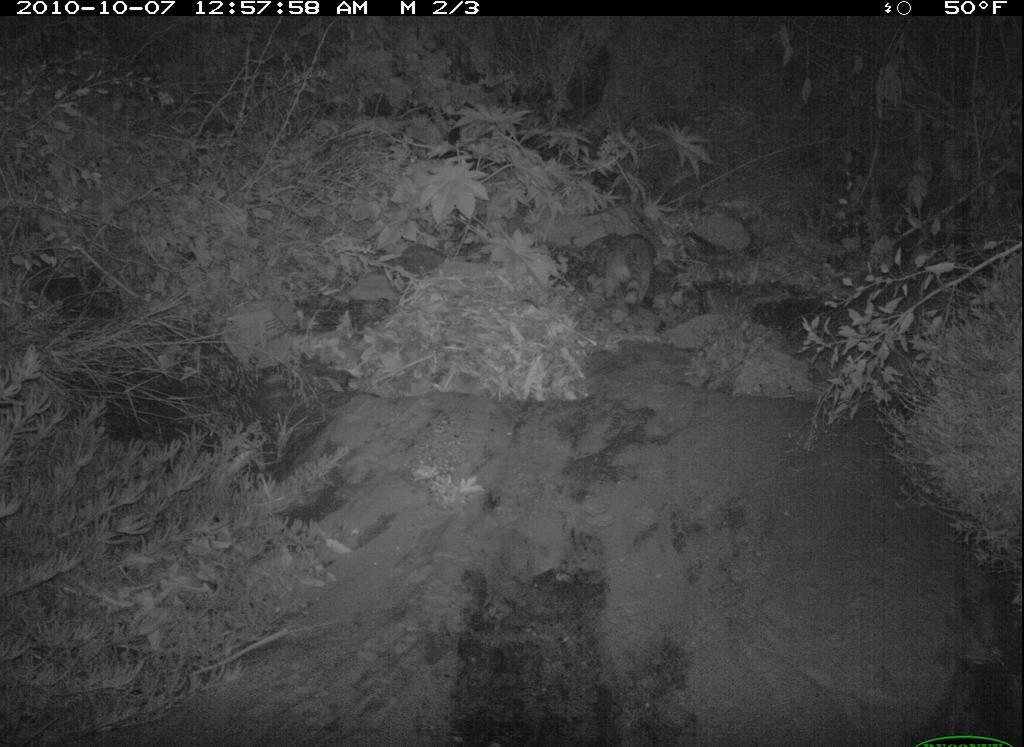raccoon: (594, 227, 669, 306)
